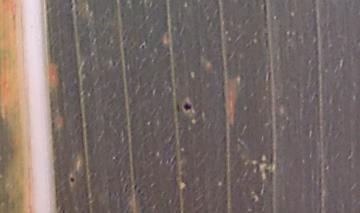tarspot: (181, 102, 192, 113), (265, 70, 273, 83), (132, 183, 142, 193), (138, 41, 147, 51), (67, 175, 76, 184), (175, 102, 181, 114), (249, 195, 258, 203), (110, 58, 117, 68), (68, 1, 75, 10), (312, 92, 319, 98)
